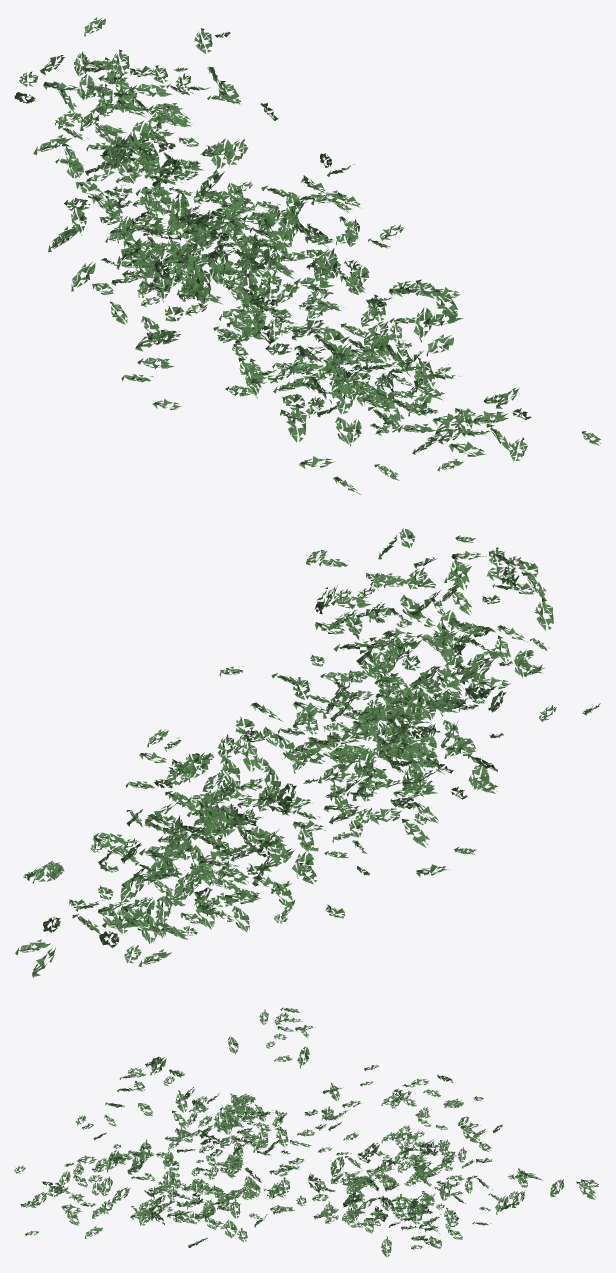
File: holy_canopy4_real.glb
3 views of the same model, one above another, from view 1: azimuth 30°, elevation 25°; view 2: azimuth 150°, elevation 25°; view 3: azimuth 270°, elevation 25° (orthographic). The views are drawn at different scales.
Visible parts, largest first — view 1: holy_canopy4; view 2: holy_canopy4; view 3: holy_canopy4.
Boxes of the visible parts, left/top/right/bottom form: holy_canopy4: left=14, top=17, right=600, bottom=494; holy_canopy4: left=15, top=528, right=600, bottom=977; holy_canopy4: left=14, top=1007, right=598, bottom=1257.
Bounding box in the file's own units: 9.58 × 11.01 × 28.7.
1 material, 1 textured.
